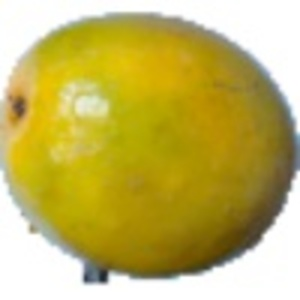maracujá: (1, 11, 300, 287)
